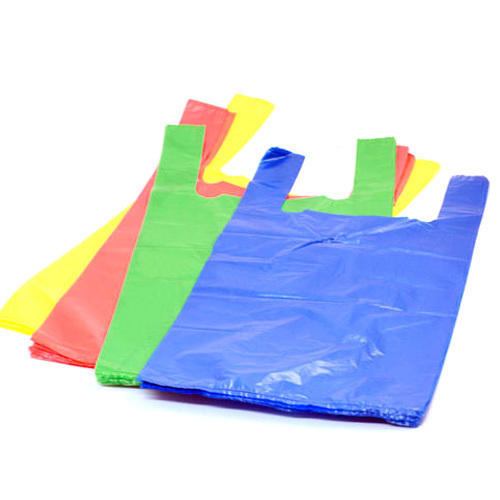Nonrec_Plastic: (19, 77, 485, 447), (150, 154, 471, 434)
